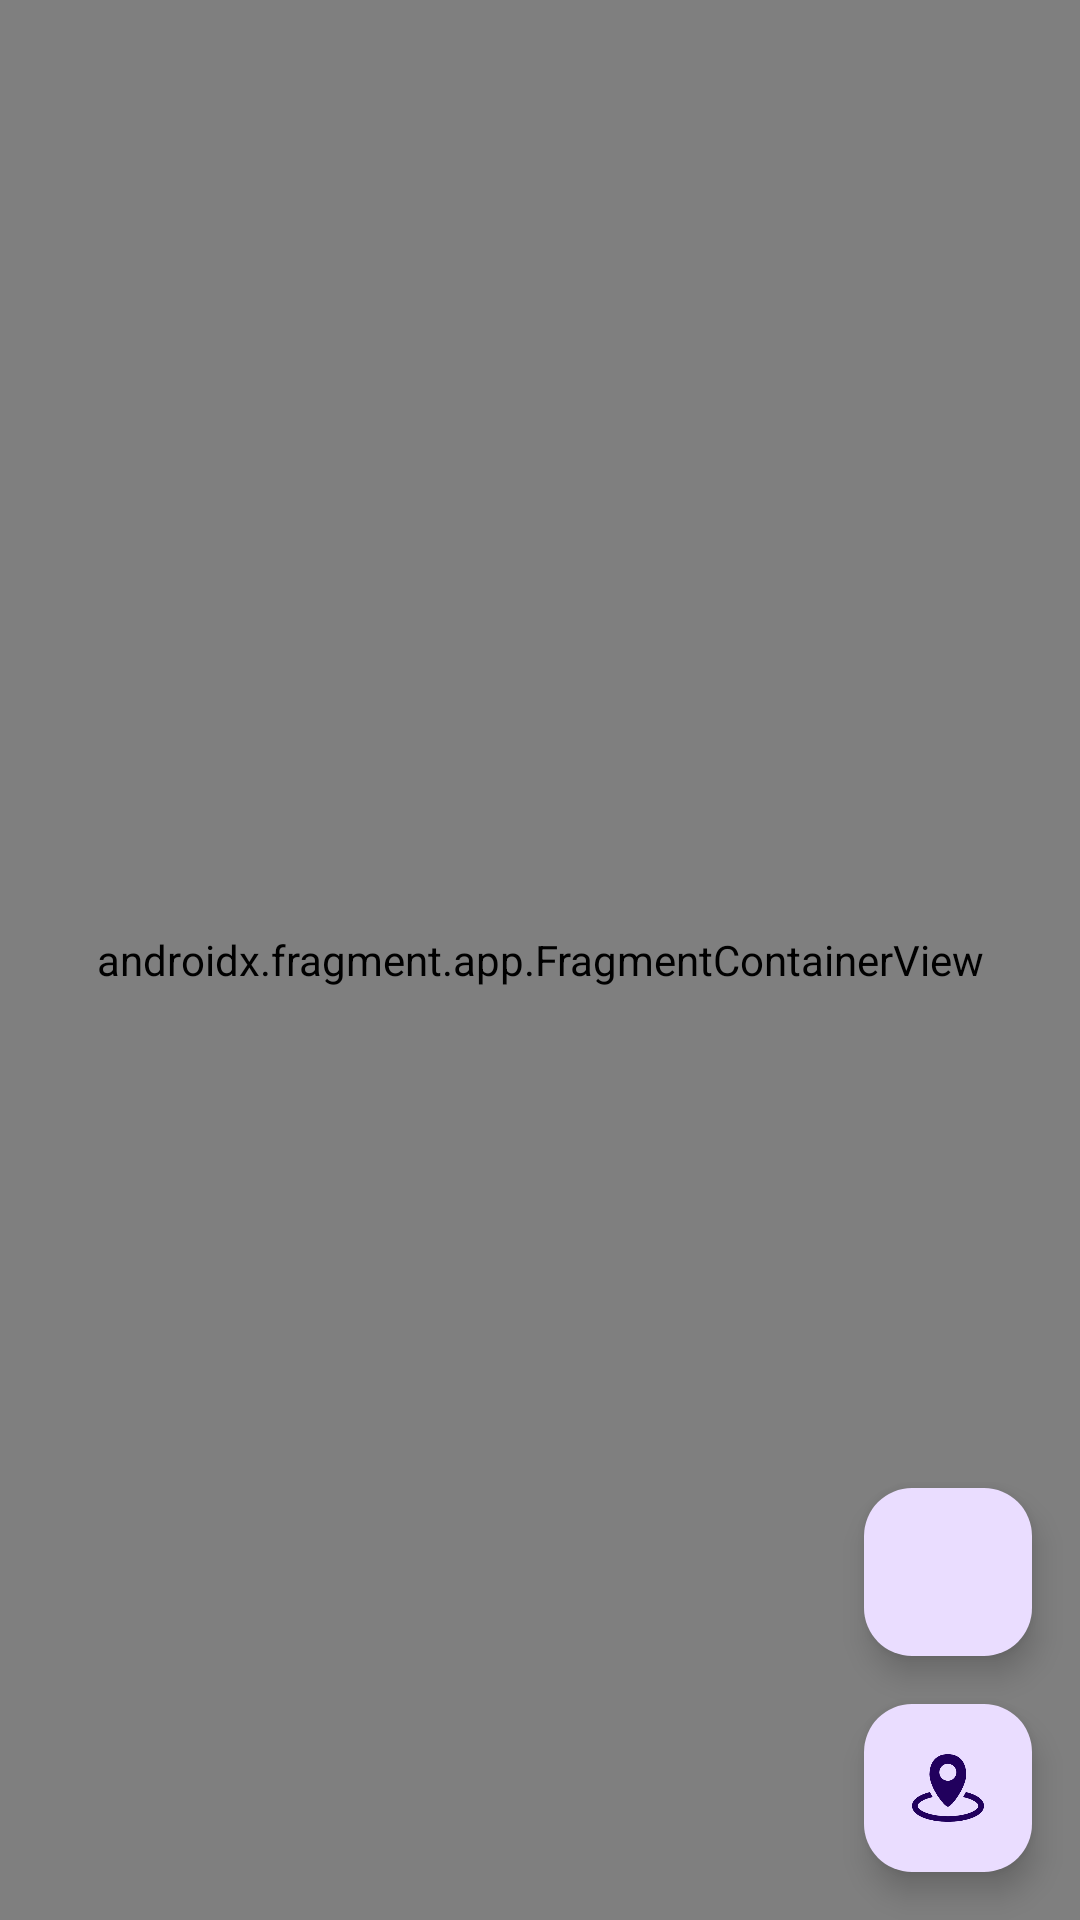

Icons on this 1080px x 1920px Android screen, each with its box as box(x1, y1, x2, y2):
Alternar visibilidad de spots en el mapa: box(864, 1704, 1032, 1872)
